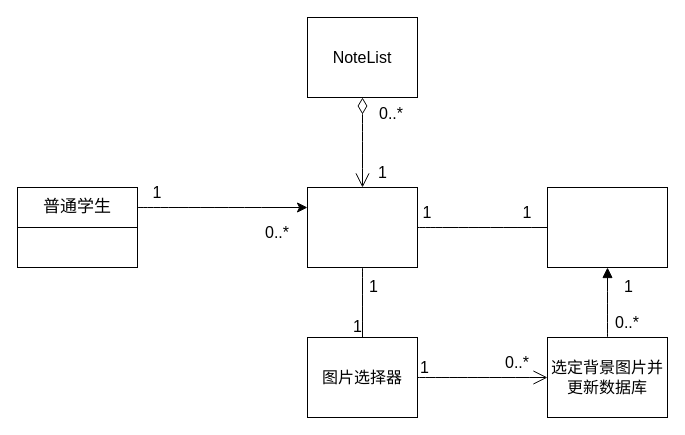
Image size: 685x435. Some labels were removed from this diagram. Each missing label, with the centre of its shape:
Note: [362,227]
NoteEditActivity: [607,227]
